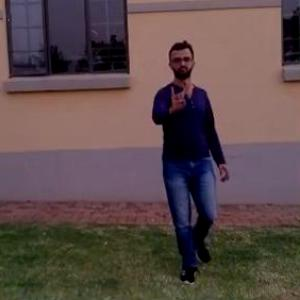takeoff-hand: (166, 81, 198, 116)
